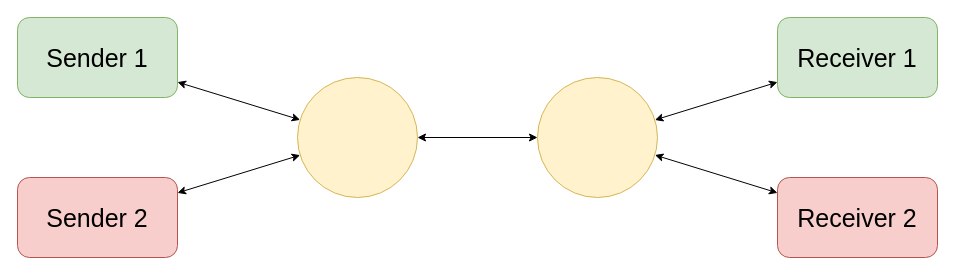
The diagram is 955 pixels wide and 275 high, and some of its shapes have lost their labels. Each missing label, with the centre of its shape:
"Router A" goes at pixel 357 137.
"Router B" goes at pixel 597 137.
